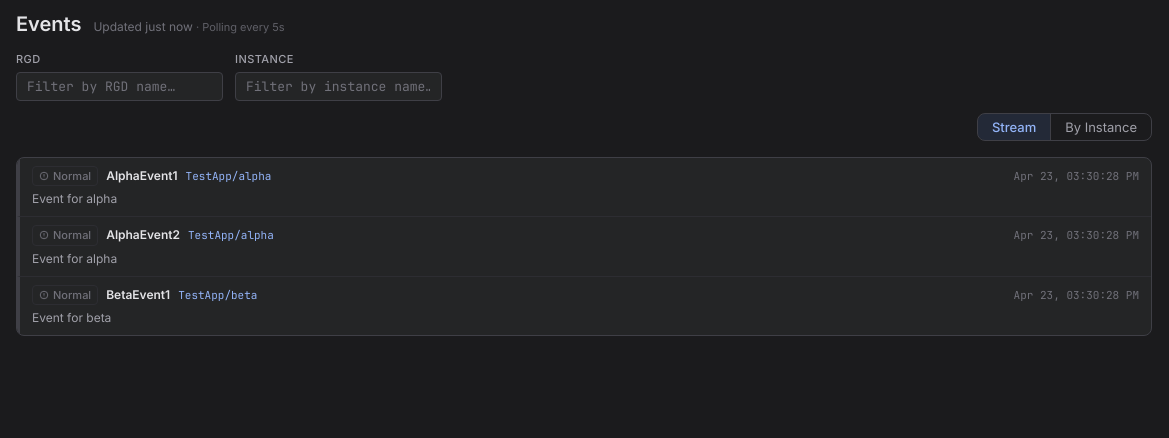
Test: Events › groups events by instance when "By Instance" toggle is clicked
Expected: the number of elements with test id "event-row" is 3, 17,158 -> 1151,217; 17,217 -> 1151,276; 17,276 -> 1151,335
Note: Switch to grouped view.
Click the button "By Instance".
click(1101, 126)  # box 1051,114 -> 1151,140
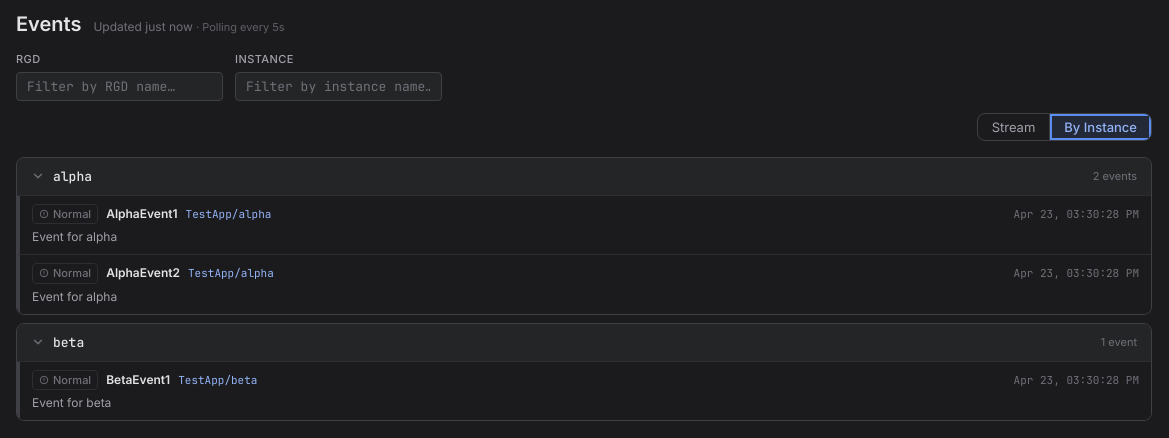
Expected: the element with test id "events-grouped" shows "alpha", 17,158 -> 1151,194
Now the element with test id "events-grouped" is shown, box 16,156 -> 1152,421
